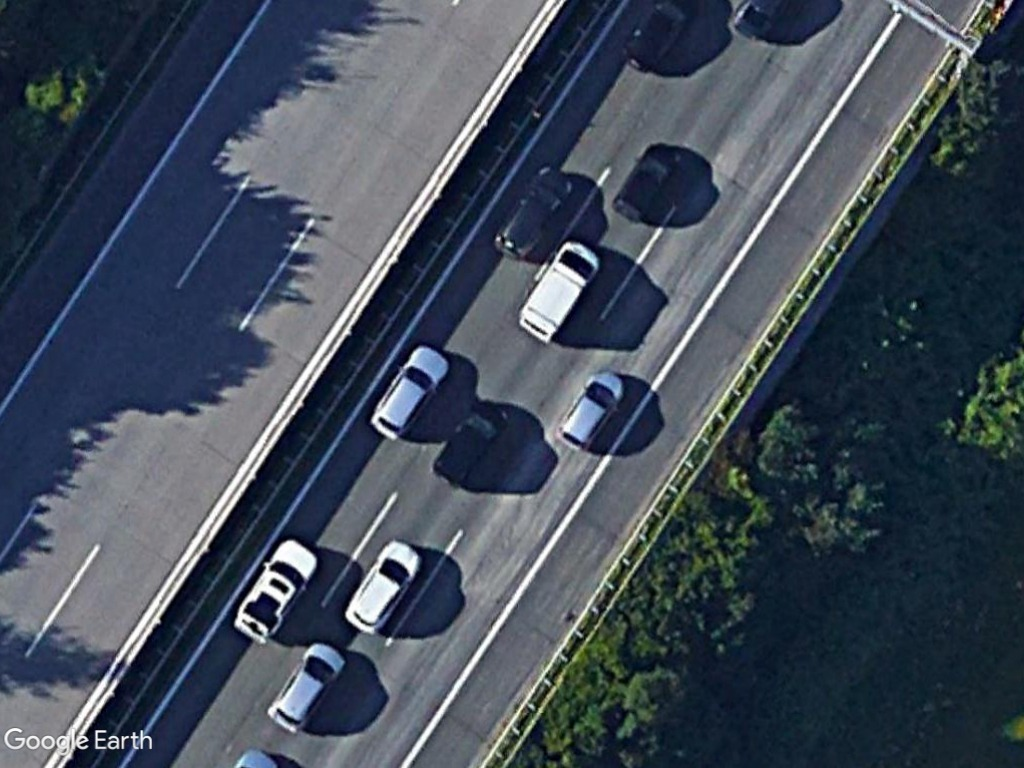car: (488, 156, 577, 267), (261, 635, 352, 737), (366, 338, 452, 445), (341, 530, 422, 635), (609, 132, 686, 227), (553, 362, 629, 458)
van: (515, 235, 603, 350)
